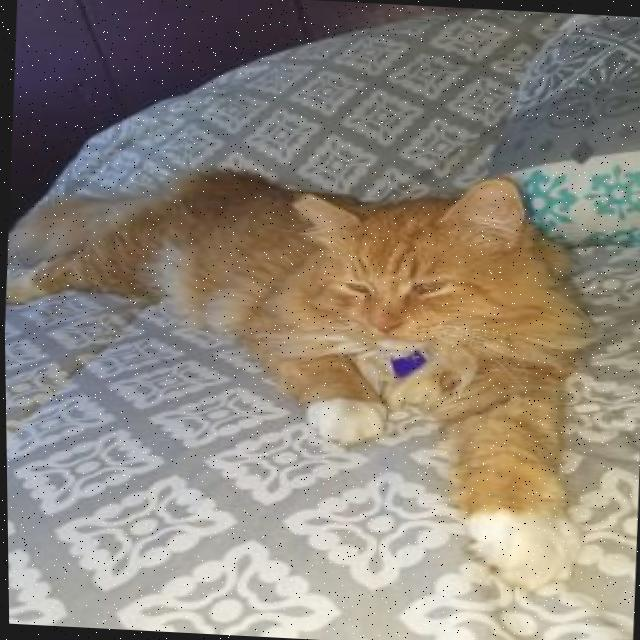Maine Coon: (2, 145, 607, 584)
